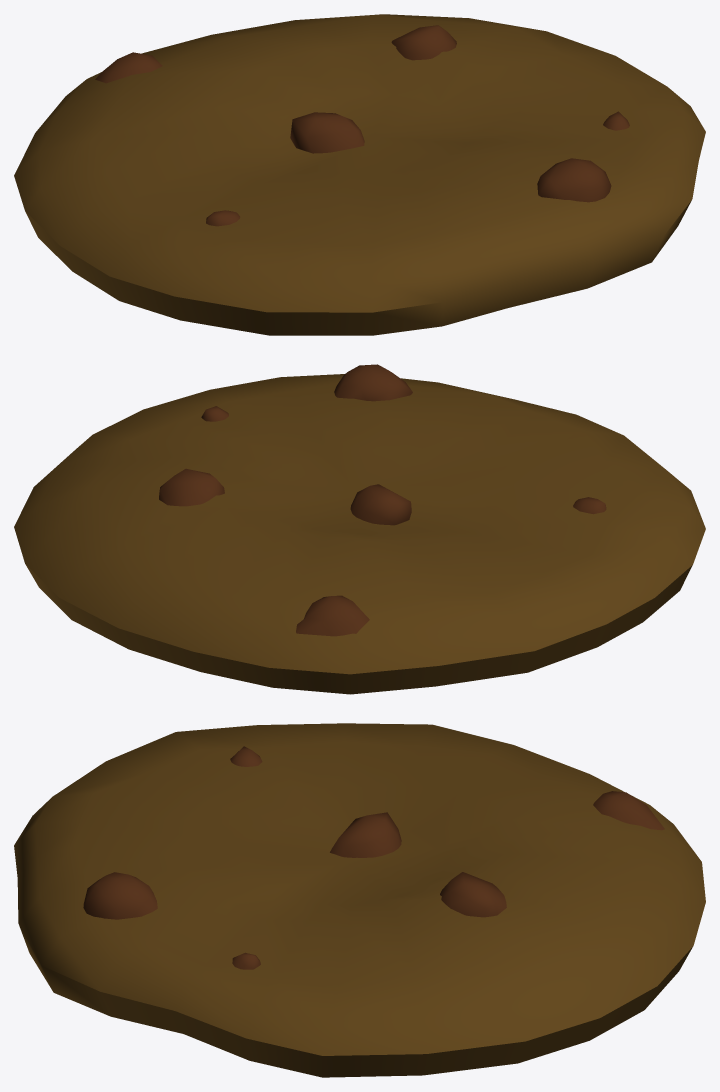
The model's file is Cookie.fbx.
3 views of the same model, one above another, from view 1: azimuth 30°, elevation 25°; view 2: azimuth 150°, elevation 25°; view 3: azimuth 270°, elevation 25° (orthographic). The views are drawn at different scales.
Parts seen in each view (by area): view 1: Cookie; view 2: Cookie; view 3: Cookie.
Part boxes in pixels (x1,y1,x2,y2): Cookie: [14, 14, 705, 335]; Cookie: [14, 364, 705, 694]; Cookie: [14, 723, 705, 1077].
Bounding box in the file's own units: 268 × 43.04 × 248.
